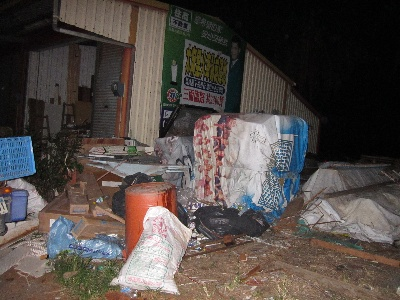plastic_bag: (191, 110, 308, 220), (109, 206, 192, 296), (300, 183, 400, 245), (47, 215, 125, 261), (303, 161, 400, 193), (191, 205, 270, 242)
